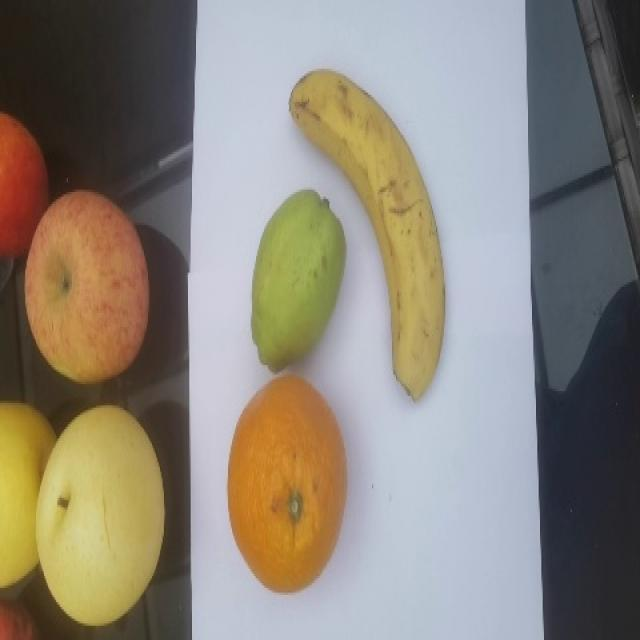Apple: (23, 188, 150, 383), (0, 111, 49, 259)
Banana: (287, 67, 446, 401)
Orange: (226, 373, 347, 593)
